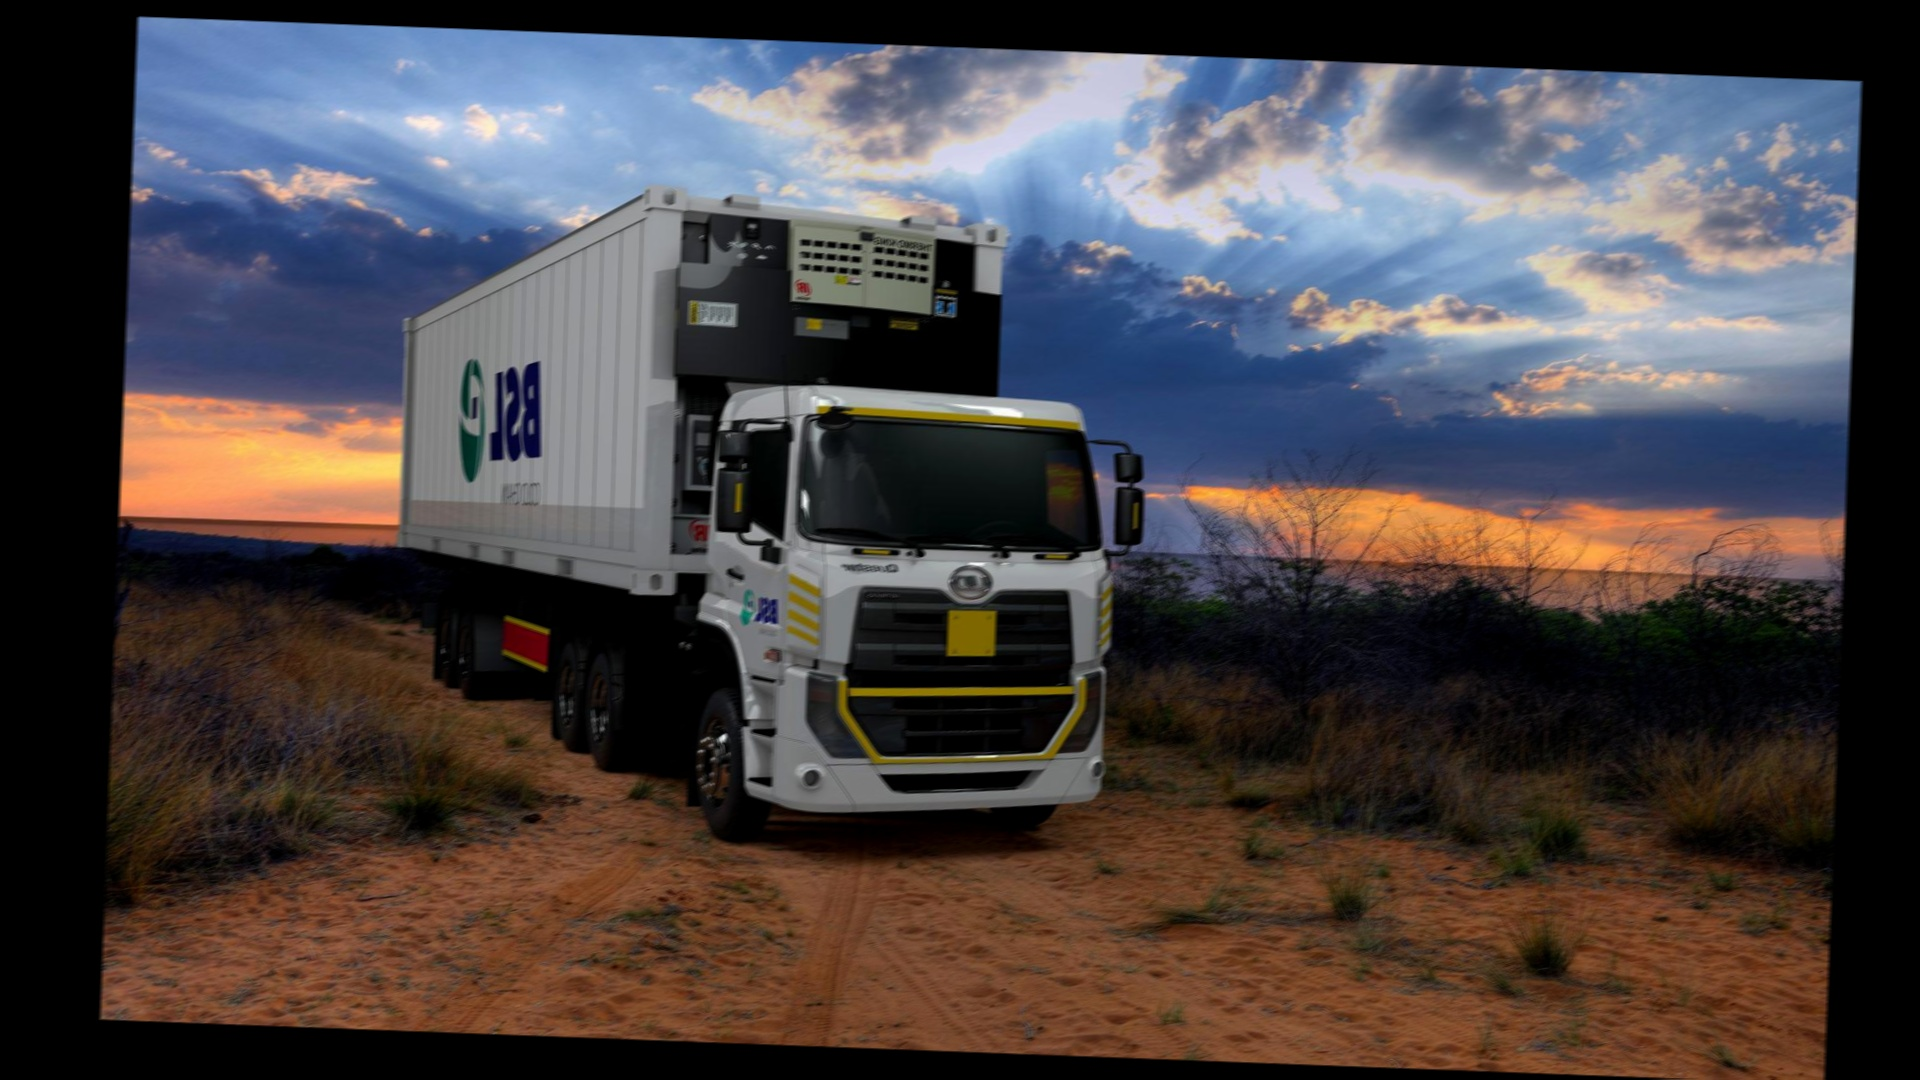truck: (389, 181, 1128, 862)
